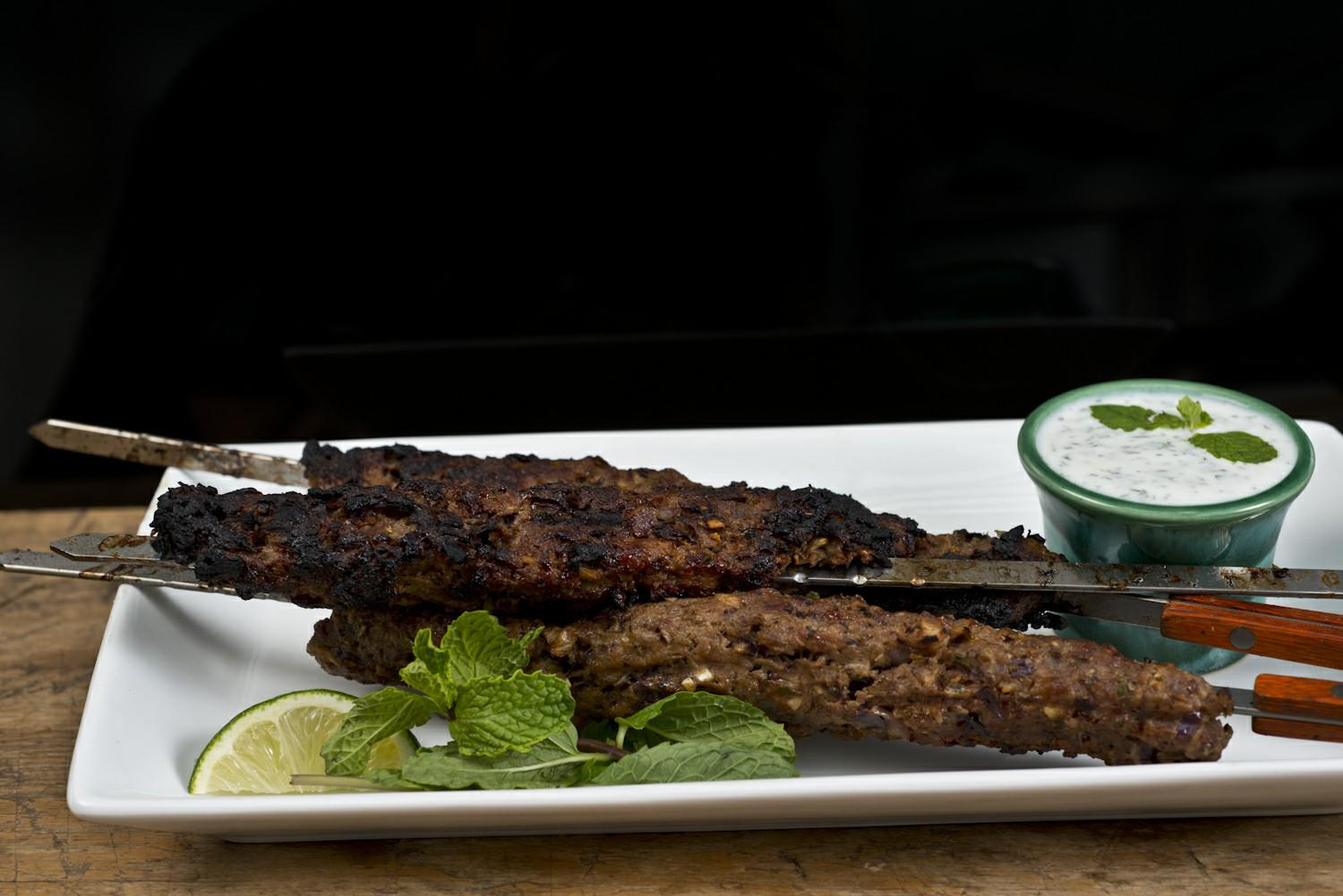Kebab: (303, 594, 1233, 764), (303, 417, 1069, 594), (152, 479, 899, 592)
